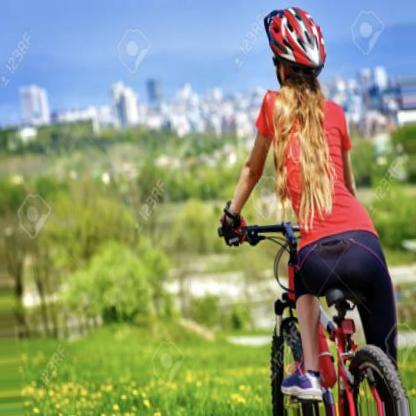with helmet: (265, 7, 327, 90)
